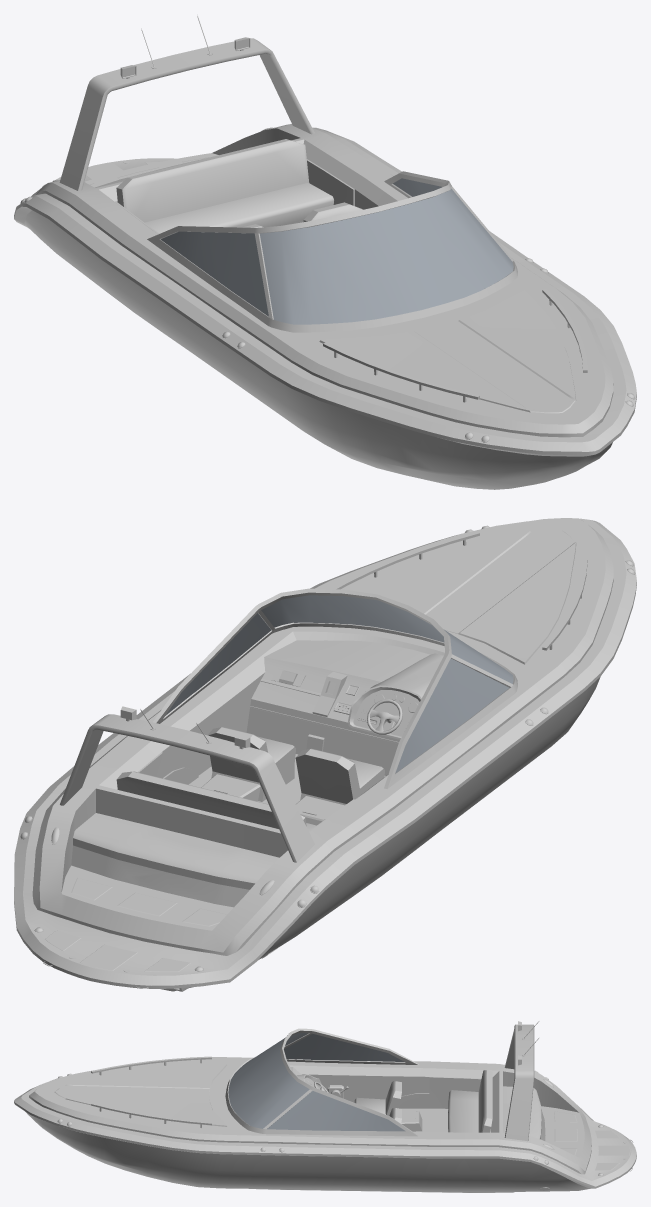
File: Motorboat.fbx
The picture shows the model from 3 angles, top to bottom: view 1: azimuth 30°, elevation 25°; view 2: azimuth 150°, elevation 25°; view 3: azimuth 270°, elevation 25°; orthographic projection. The views are drawn at different scales.
Visible parts, largest first — view 1: Motorboat, Motorboat.001; view 2: Motorboat, Motorboat.001; view 3: Motorboat, Motorboat.001.
Boxes of the visible parts, left/top/right/bottom form: Motorboat: left=14, top=15, right=636, bottom=489; Motorboat.001: left=161, top=178, right=513, bottom=324; Motorboat: left=14, top=518, right=636, bottom=991; Motorboat.001: left=165, top=595, right=513, bottom=773; Motorboat: left=14, top=1021, right=636, bottom=1192; Motorboat.001: left=228, top=1033, right=405, bottom=1131.
Size of the model in its own units: 357 by 271 by 996.
